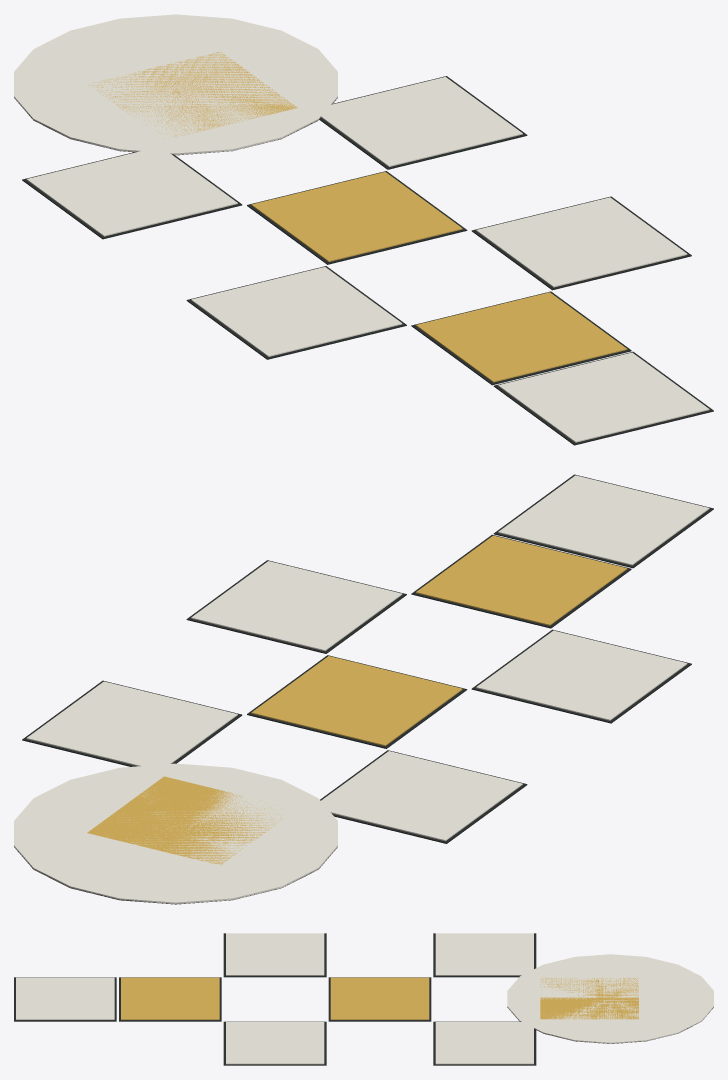
The model's file is hopscotch.glb.
The picture shows the model from 3 angles, top to bottom: view 1: azimuth 30°, elevation 25°; view 2: azimuth 150°, elevation 25°; view 3: azimuth 270°, elevation 25°; orthographic projection. The views are drawn at different scales.
Parts seen in each view (by area): view 1: hopscotch; view 2: hopscotch; view 3: hopscotch.
Boxes of the visible parts, <box> form: hopscotch: <box>14,14,713,445</box>; hopscotch: <box>14,474,713,904</box>; hopscotch: <box>14,933,713,1065</box>.
Size of the model in its own units: 1.49 by 0.0065 by 3.34.
